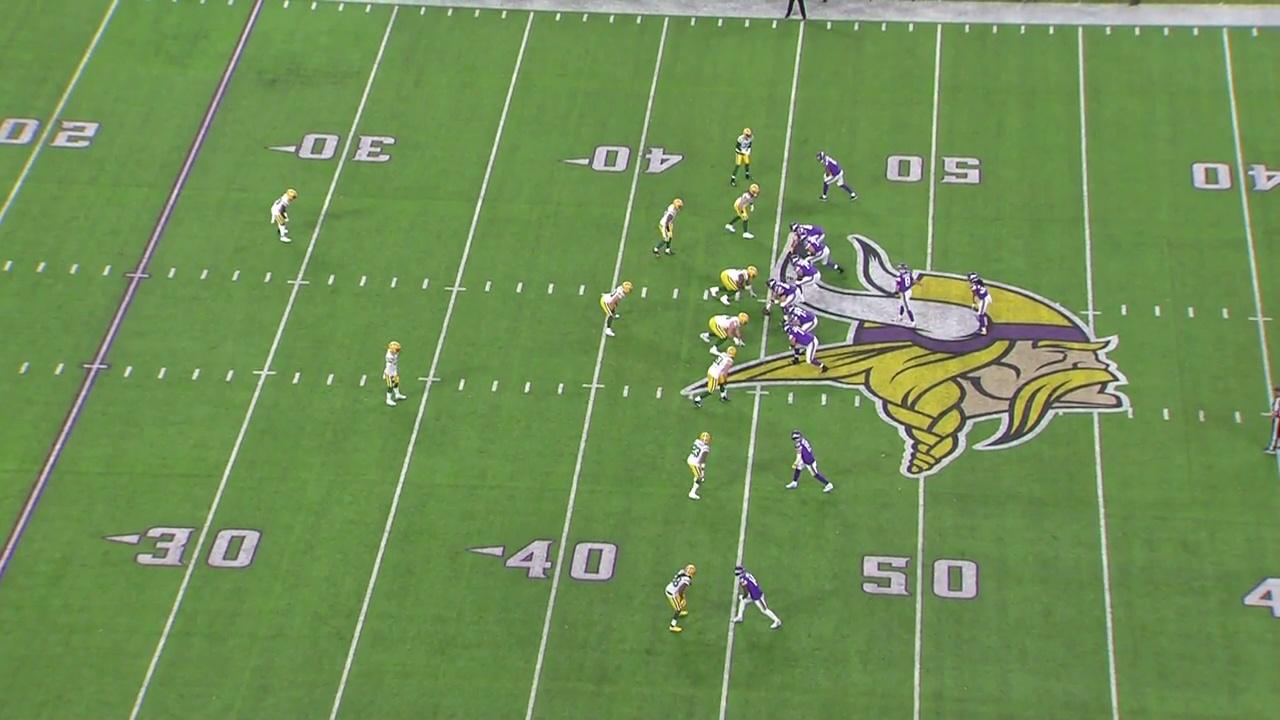defense: (691, 346, 737, 411), (663, 558, 700, 635), (708, 261, 760, 308), (699, 310, 751, 357), (722, 181, 762, 241), (650, 196, 685, 260), (684, 429, 715, 500), (600, 280, 635, 339), (267, 187, 301, 245), (380, 338, 408, 408), (729, 124, 756, 188)
oline: (782, 323, 829, 375), (796, 230, 845, 276), (761, 278, 798, 327), (787, 251, 821, 304), (783, 302, 819, 334)
qb: (890, 260, 923, 330)
ref: (1260, 382, 1280, 459)
skill: (729, 562, 786, 632), (785, 428, 836, 496), (812, 149, 860, 204), (965, 272, 993, 338), (787, 221, 827, 255)
